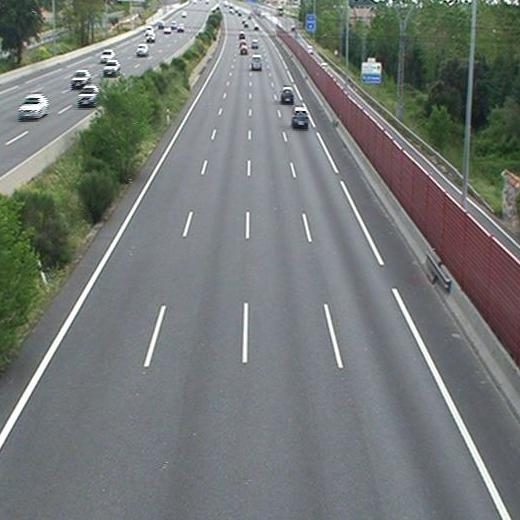car: (292, 107, 309, 128), (281, 88, 295, 103), (240, 46, 249, 56)
van: (250, 55, 262, 71)
